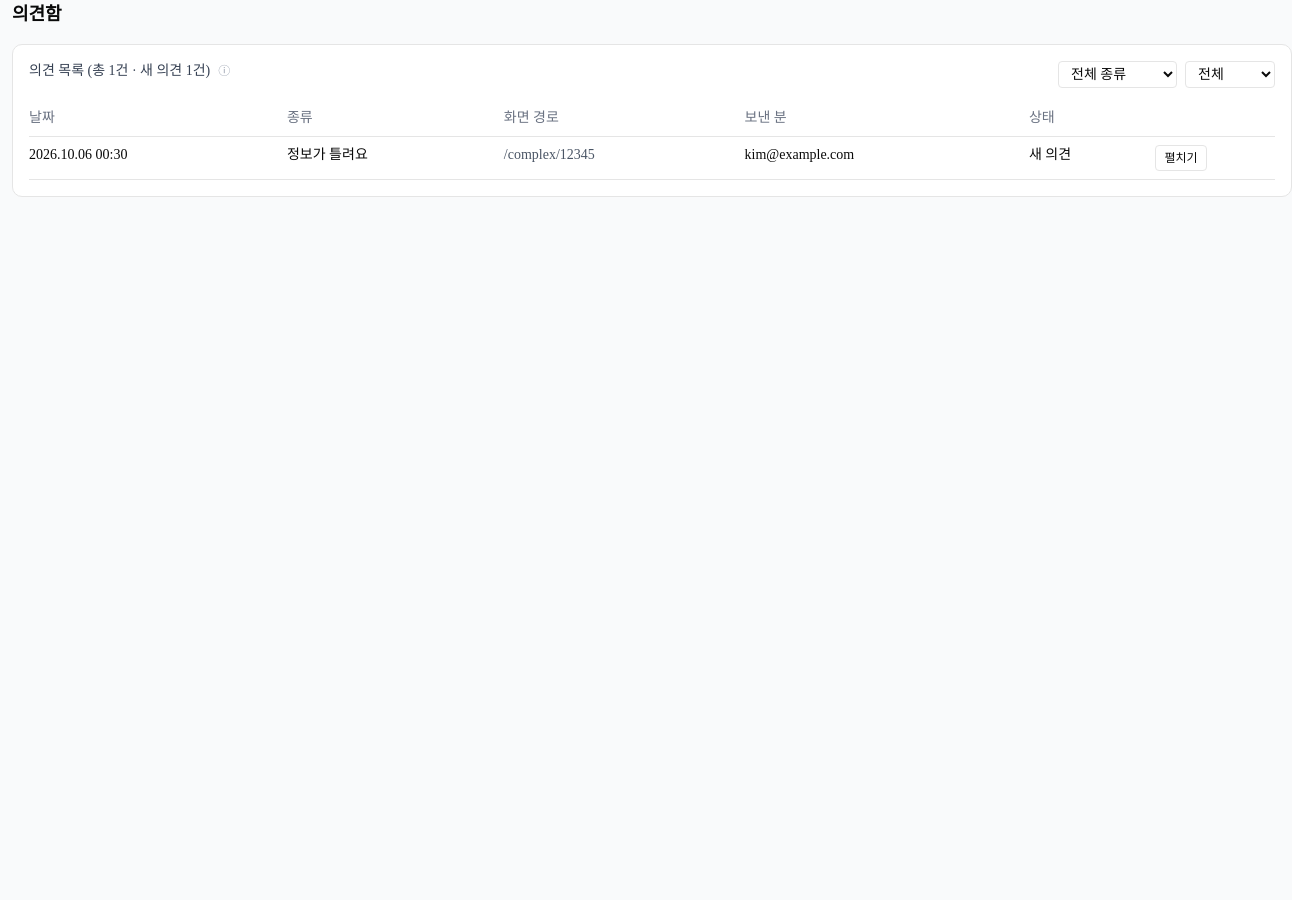
Scenario: /admin/opinions 답장 › 답장 저장 → (토큰, id, {reply}) 로 부르고 '메일도 보냈어요'
Click the button "펼치기" at point(1181, 158), box [1156, 145, 1207, 171]
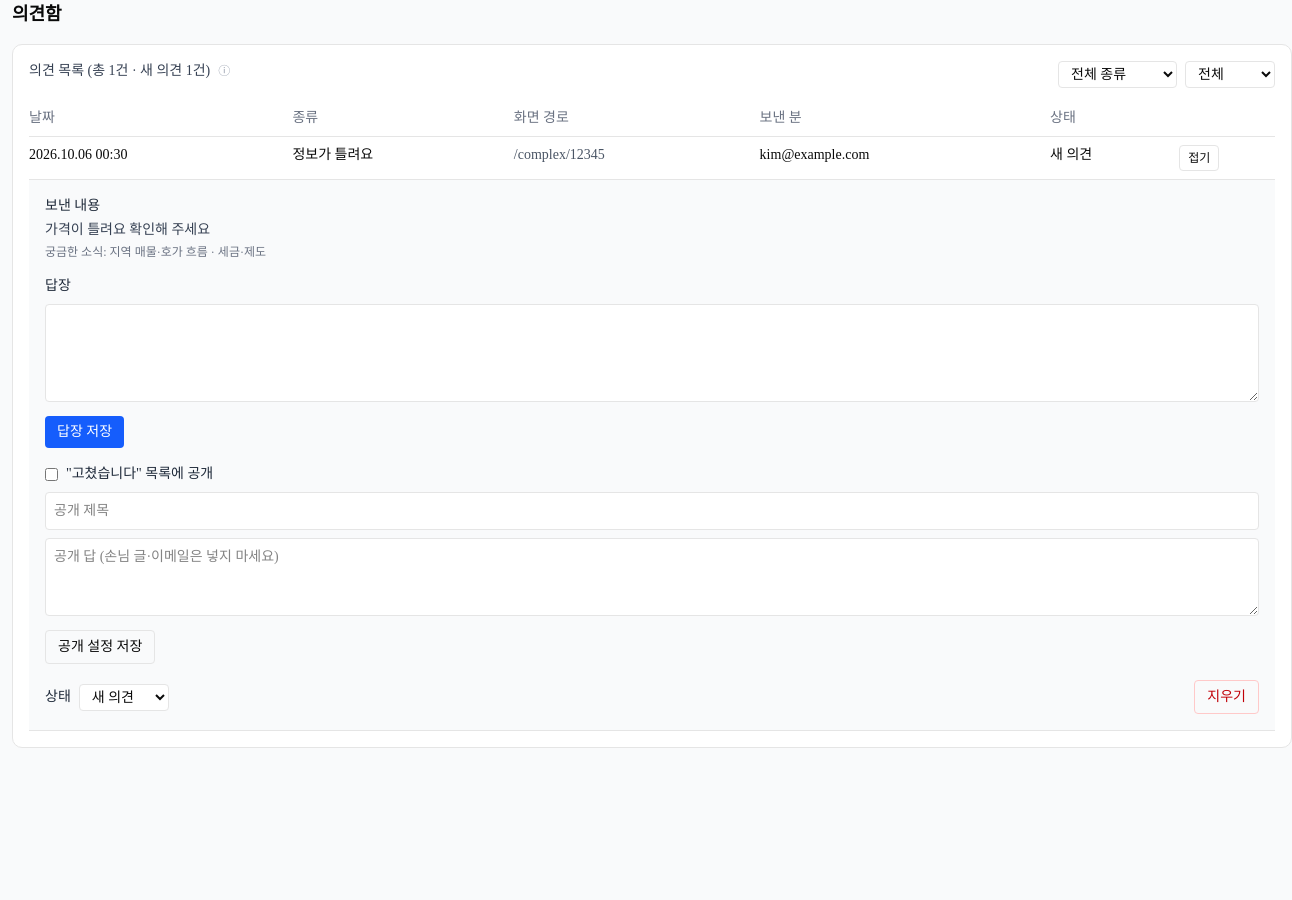
Expected: the text "궁금한 소식: 지역 매물·호가 흐름 · 세금·제도" is shown, [45, 245, 266, 259]
Type "고쳤어요" into the text box labelled "답장" at point(652, 353), box [45, 304, 1259, 402]
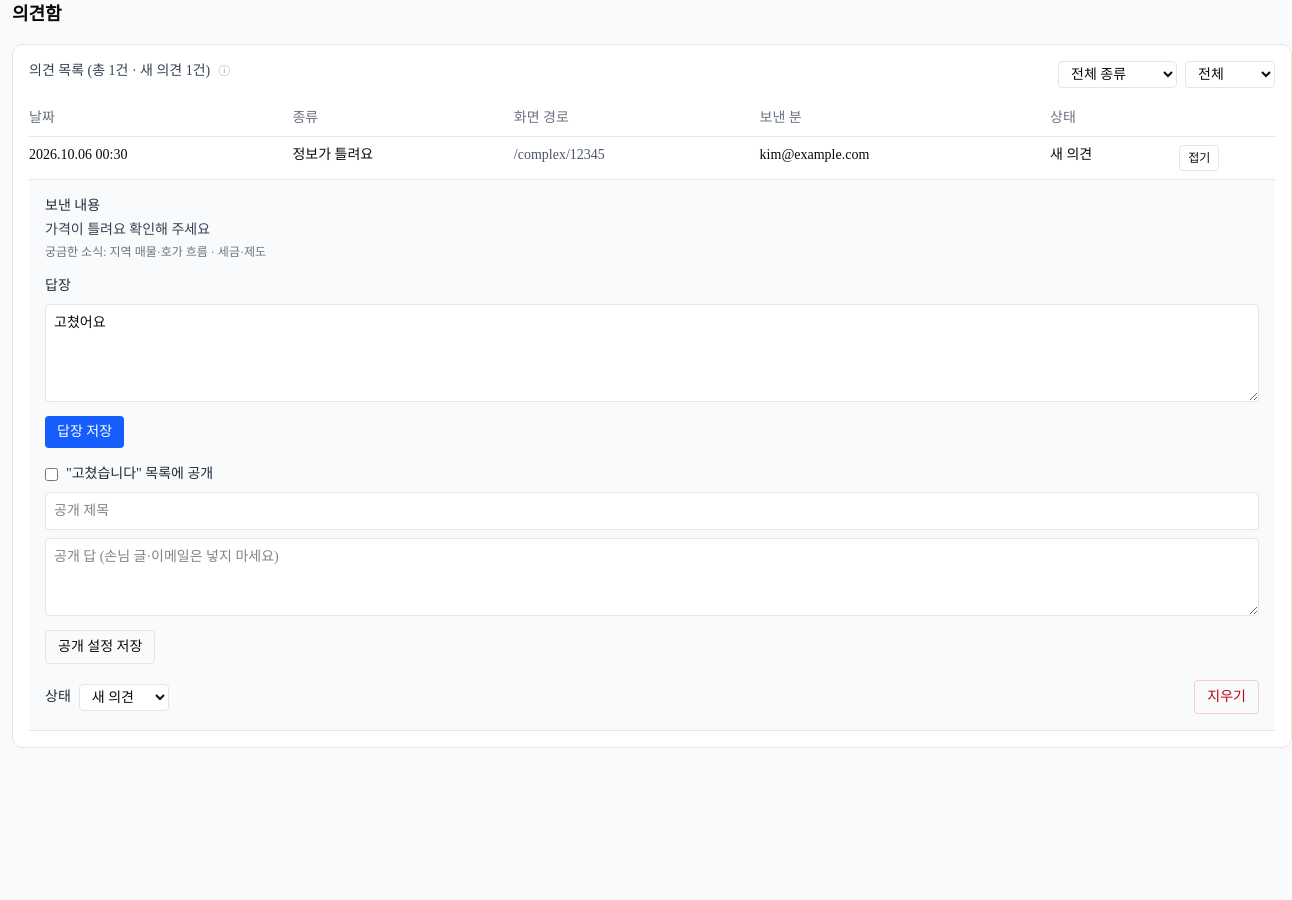
Click the button "답장 저장" at point(84, 432), box [45, 416, 124, 448]
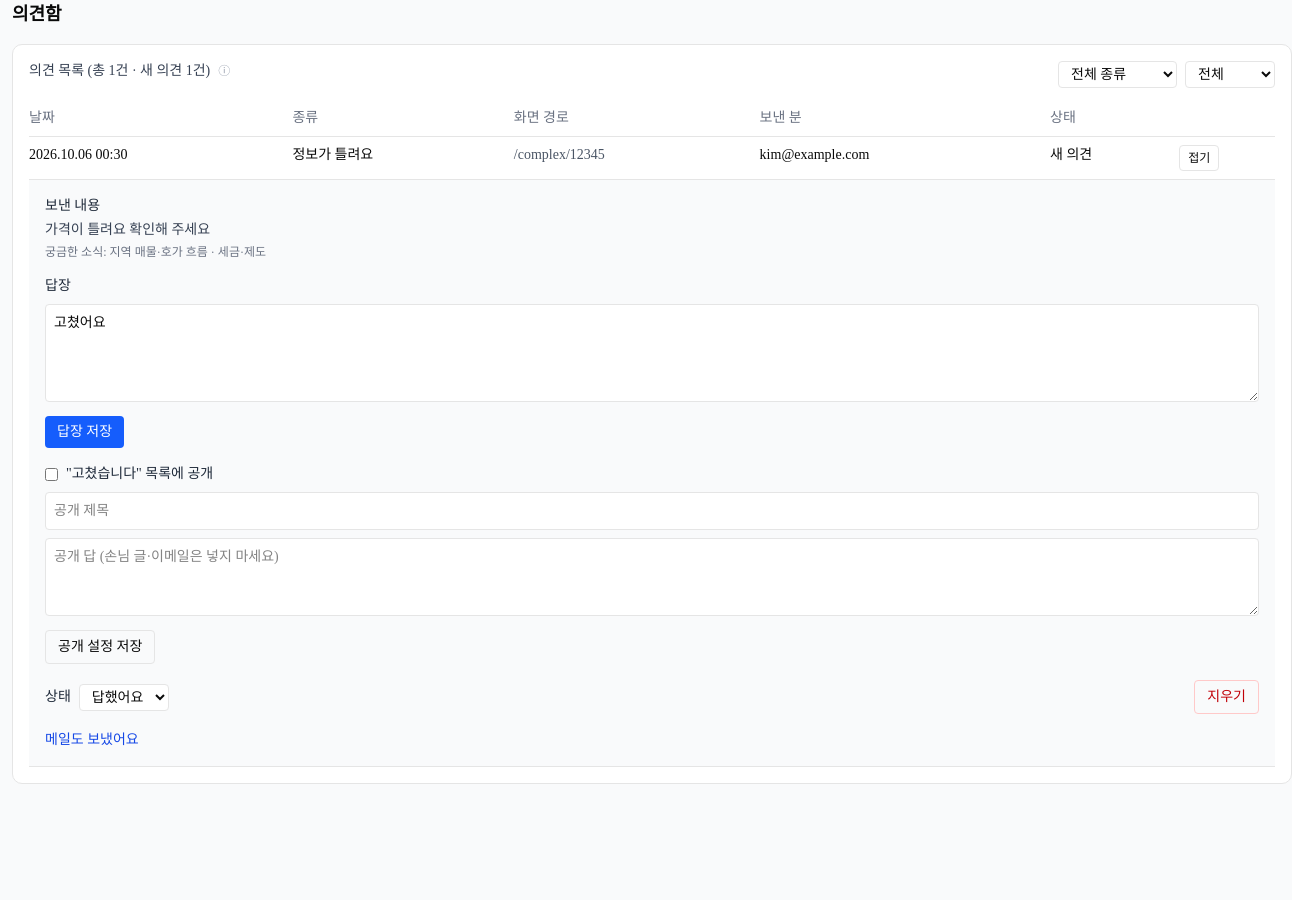
Expected: the text "메일도 보냈어요" is shown, [45, 732, 139, 747]
